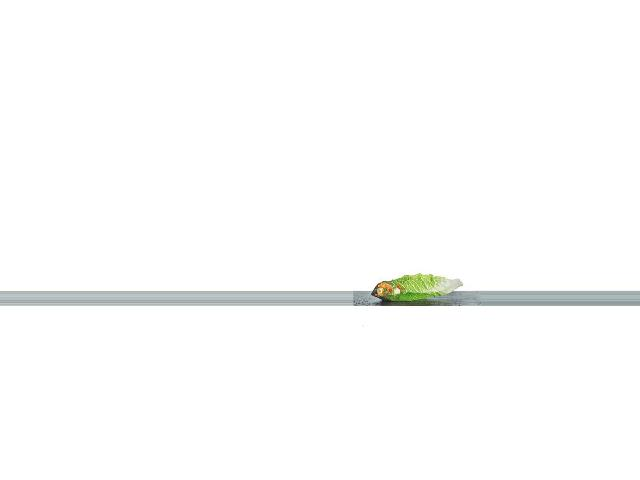lettuce: (367, 270, 464, 306)
